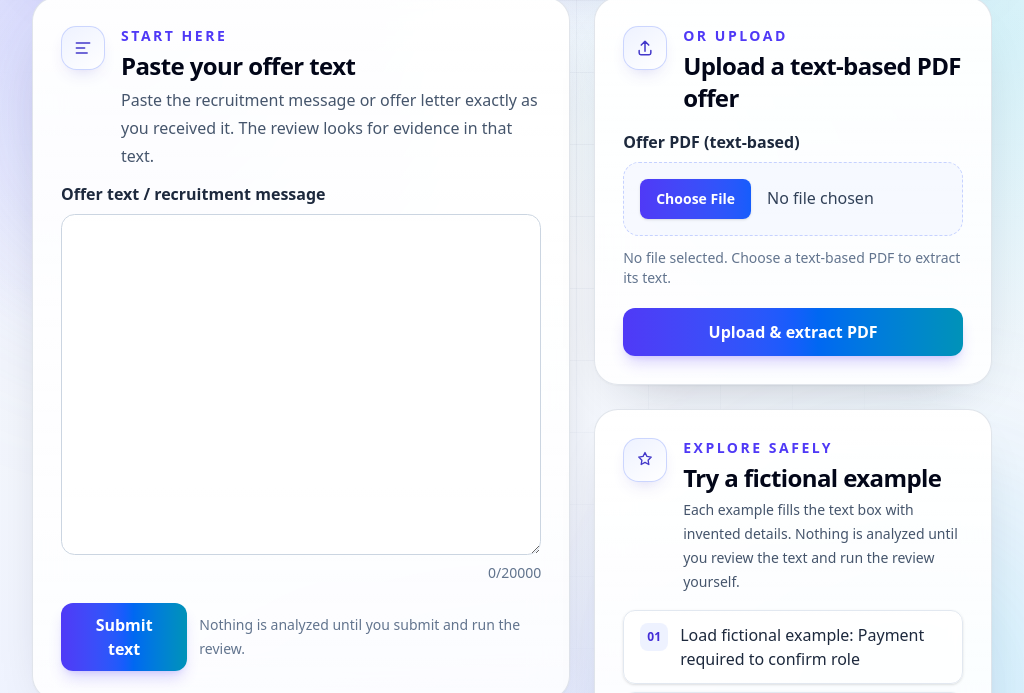
Test: OfferShield review page › generates an editable verification email with placeholders in rule-only mode
(page scrolled)
Step 1. Type "To confirm your acceptance, please pay the registration fee." into the text box labelled "Offer text / recruitment message" → [301, 385], box [61,214,541,555]
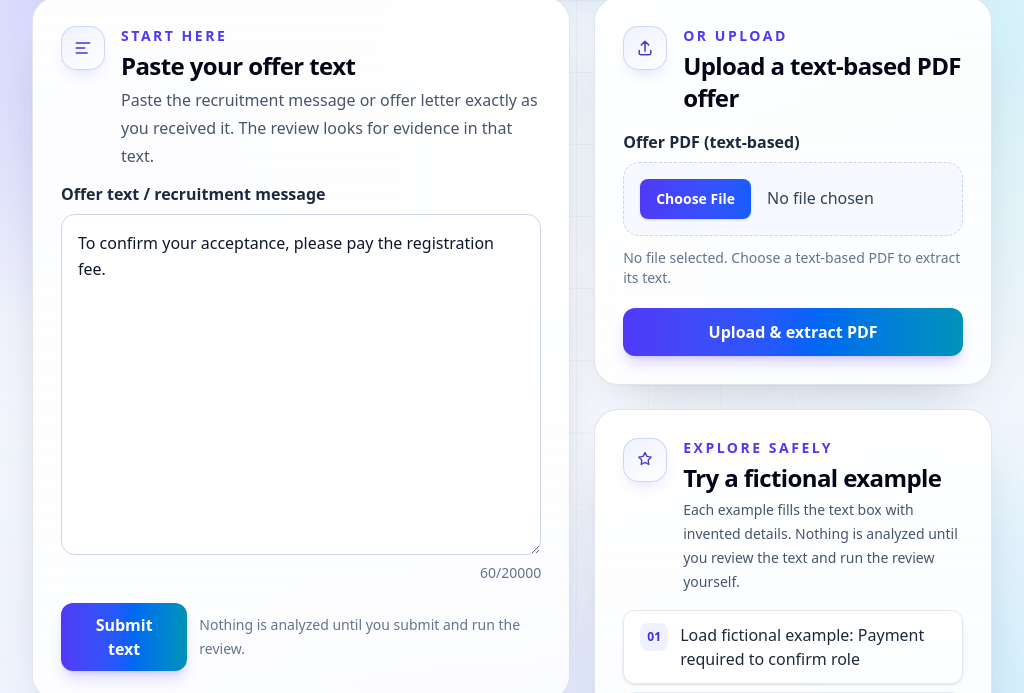
Step 2. Click the button "Submit text" → [124, 637], box [61,603,187,671]
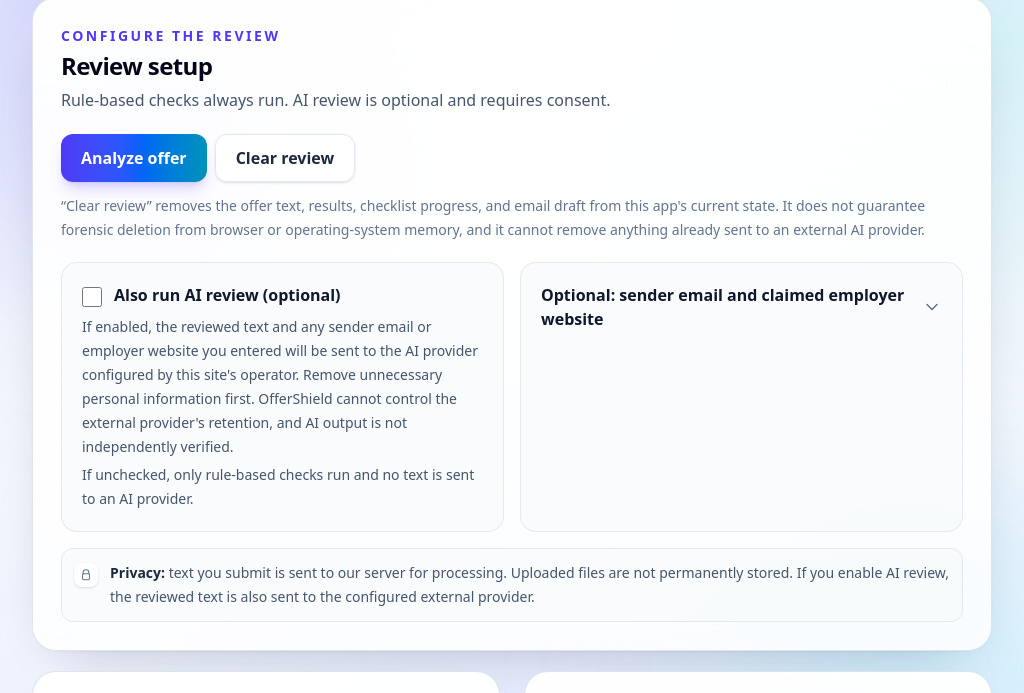
Check: the button "Analyze offer" is shown
Step 3. Click the button "Analyze offer" → [134, 158], box [61,134,207,182]
(page scrolled)
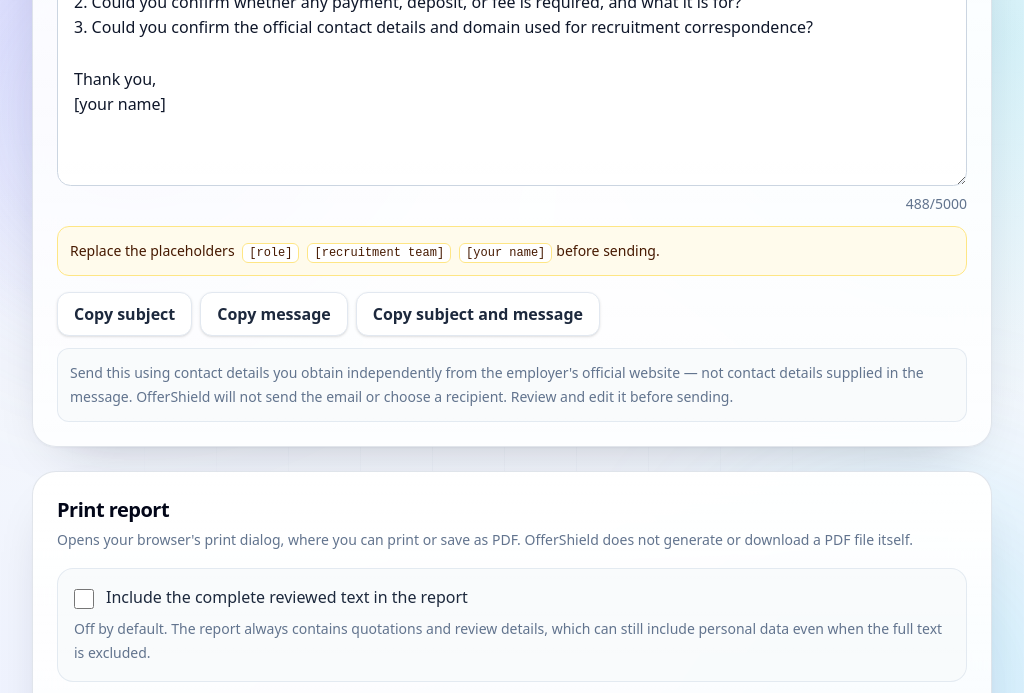
Check: the text "Replace the placeholder" is shown, box [70,241,228,260]
Check: the text "Send this using contact details you obtain independently" is shown, box [70,363,924,406]
